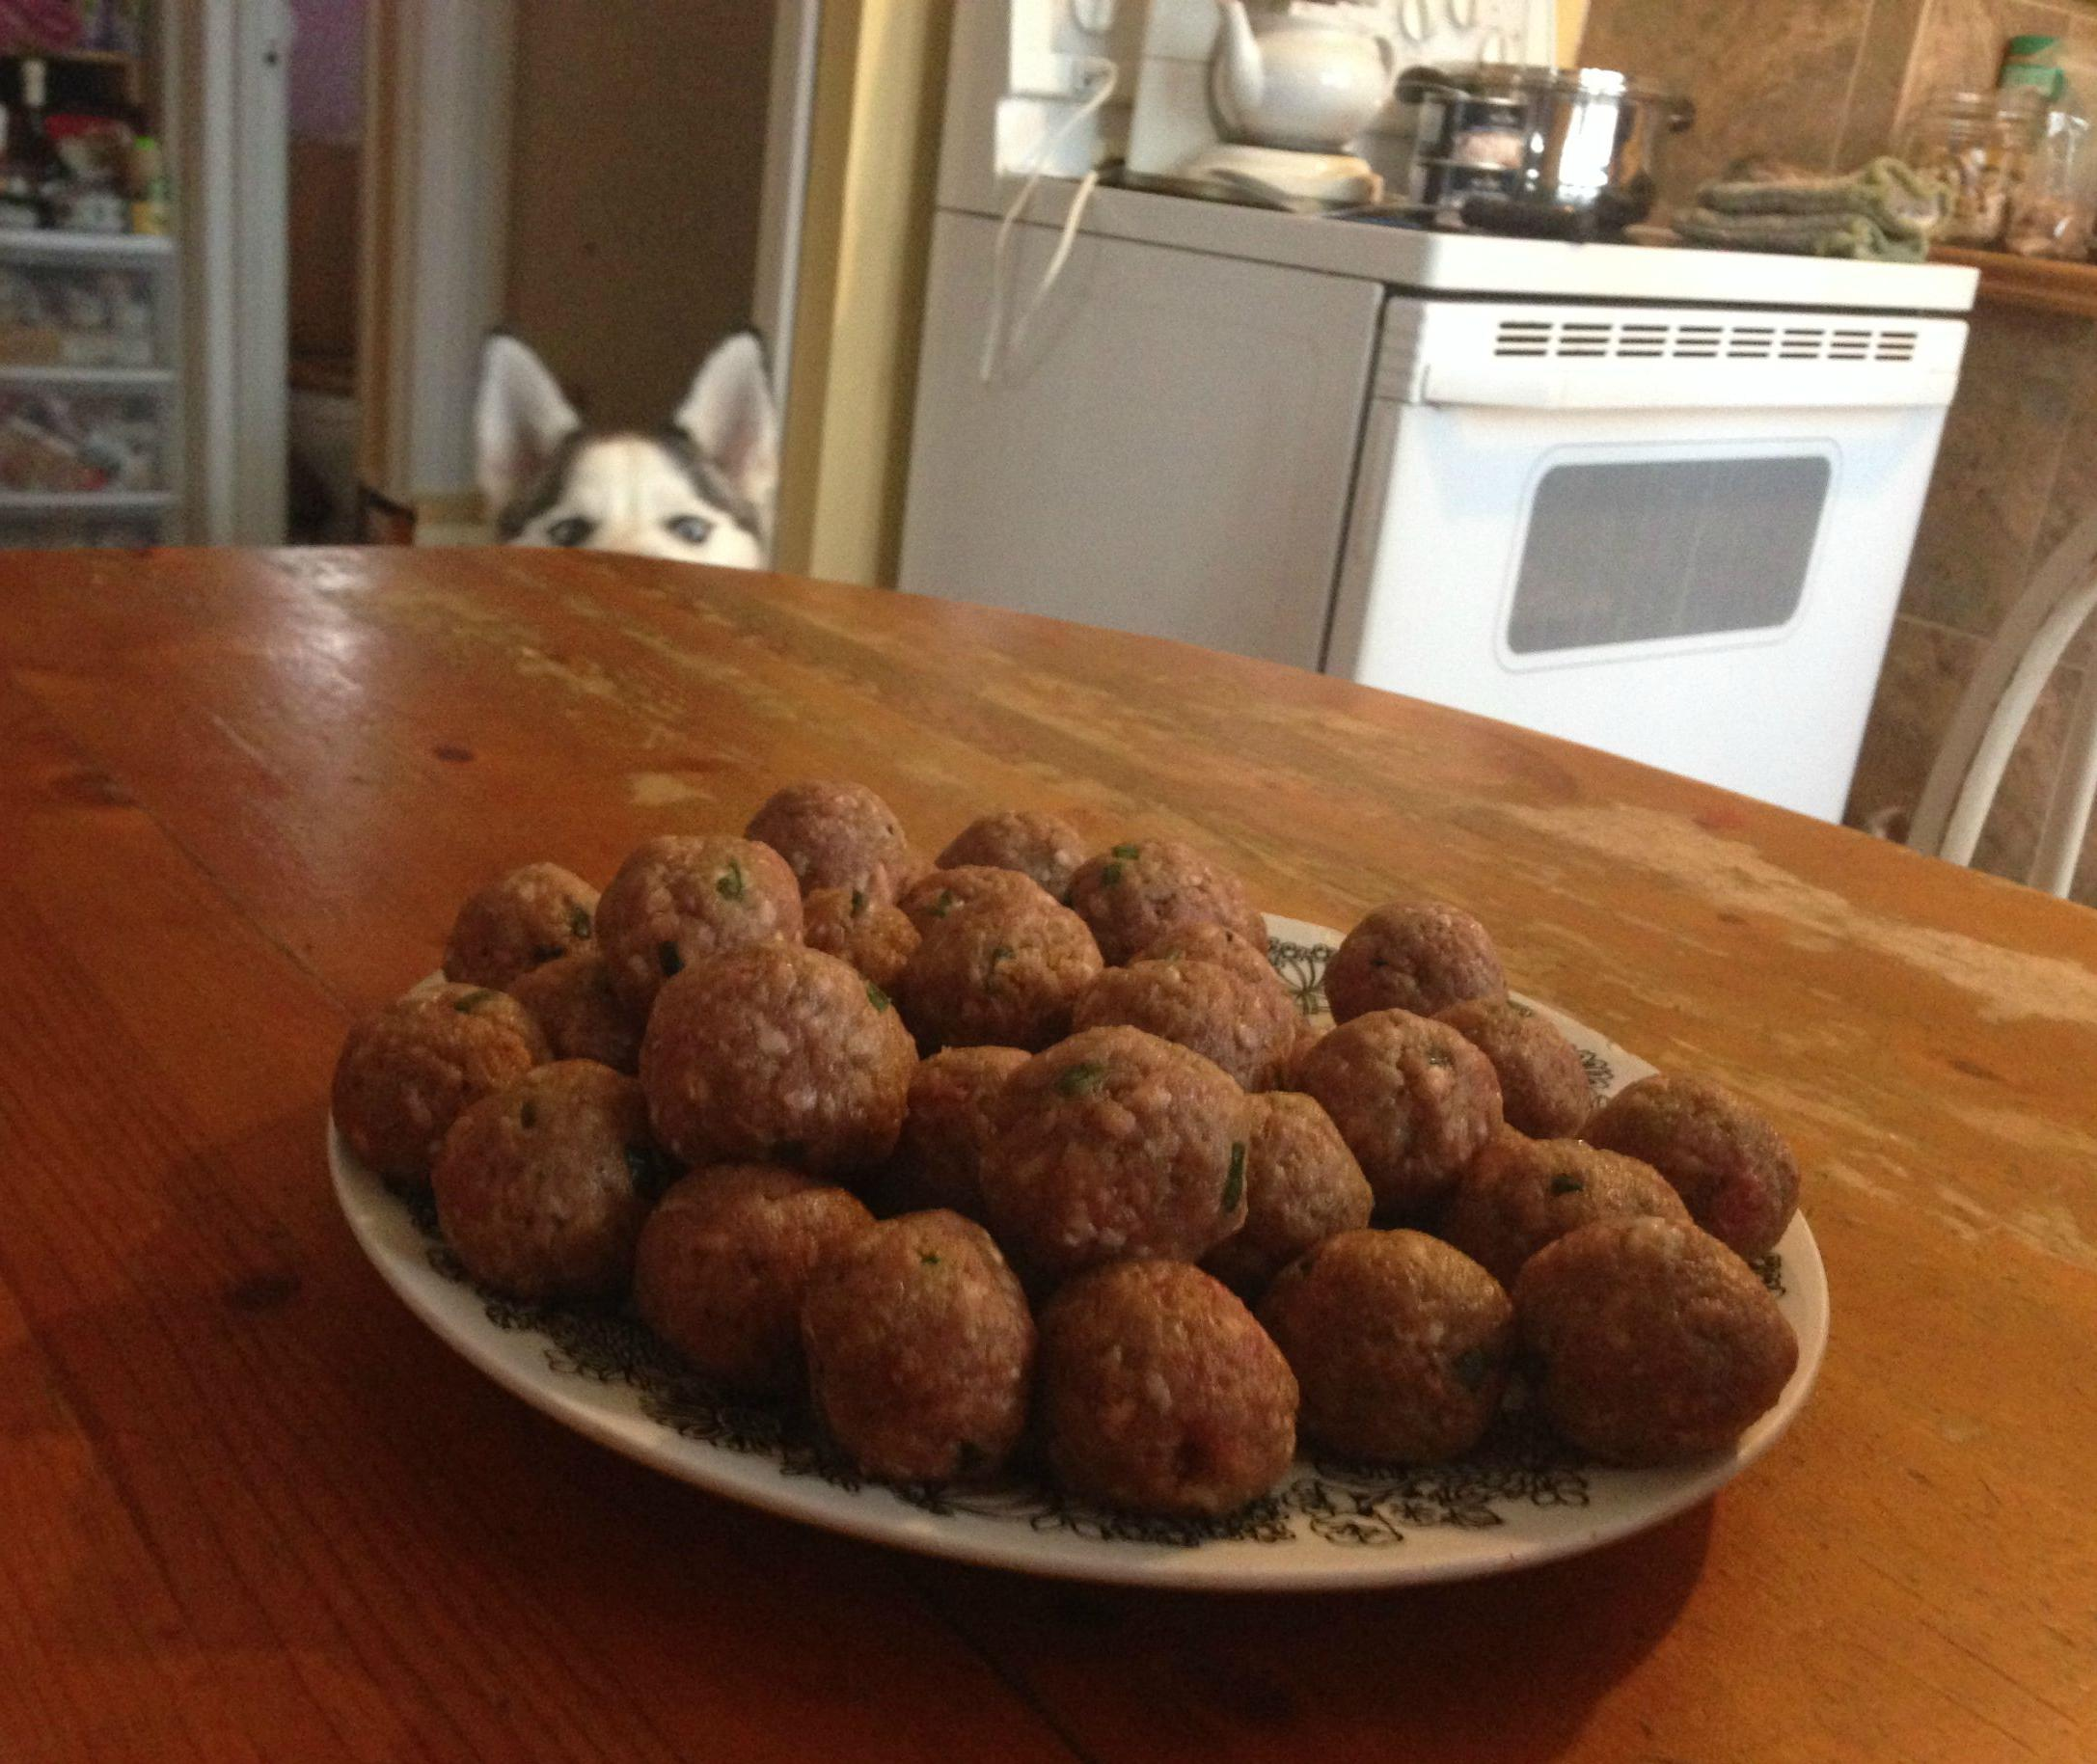meatballs: (1034, 1236, 1267, 1510), (1530, 1213, 1778, 1456), (1274, 1225, 1519, 1470), (814, 1218, 1033, 1489), (975, 1045, 1260, 1248), (455, 1053, 684, 1302), (642, 1150, 873, 1395), (641, 961, 896, 1162), (352, 987, 534, 1200), (1287, 1003, 1486, 1195), (1591, 1069, 1799, 1244), (616, 838, 789, 1022), (1325, 905, 1497, 1060), (1026, 831, 1255, 947), (753, 789, 912, 945), (1211, 1097, 1390, 1236), (905, 892, 1084, 1027), (1085, 940, 1288, 1050), (452, 861, 602, 987), (1498, 1146, 1673, 1253), (1446, 1022, 1603, 1124)
